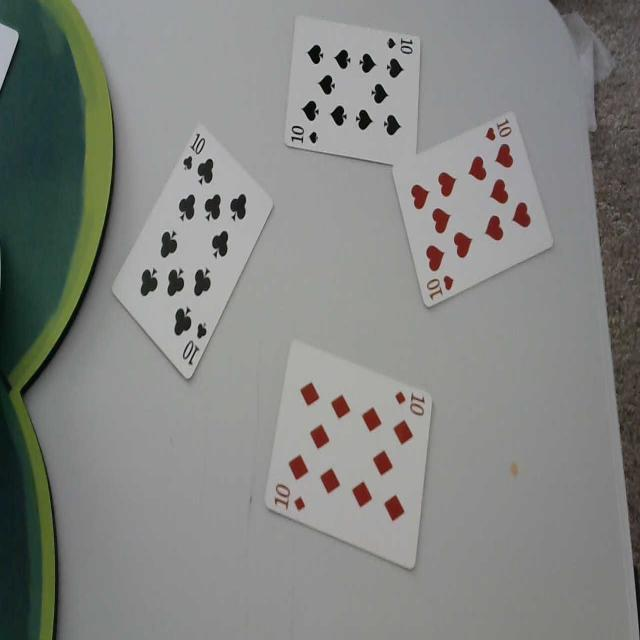10C: (183, 321, 209, 367), (182, 130, 207, 175)
10D: (272, 479, 306, 516), (394, 385, 426, 419)
10H: (426, 273, 455, 303), (484, 113, 512, 143)
10S: (288, 124, 320, 147), (387, 35, 415, 57)
